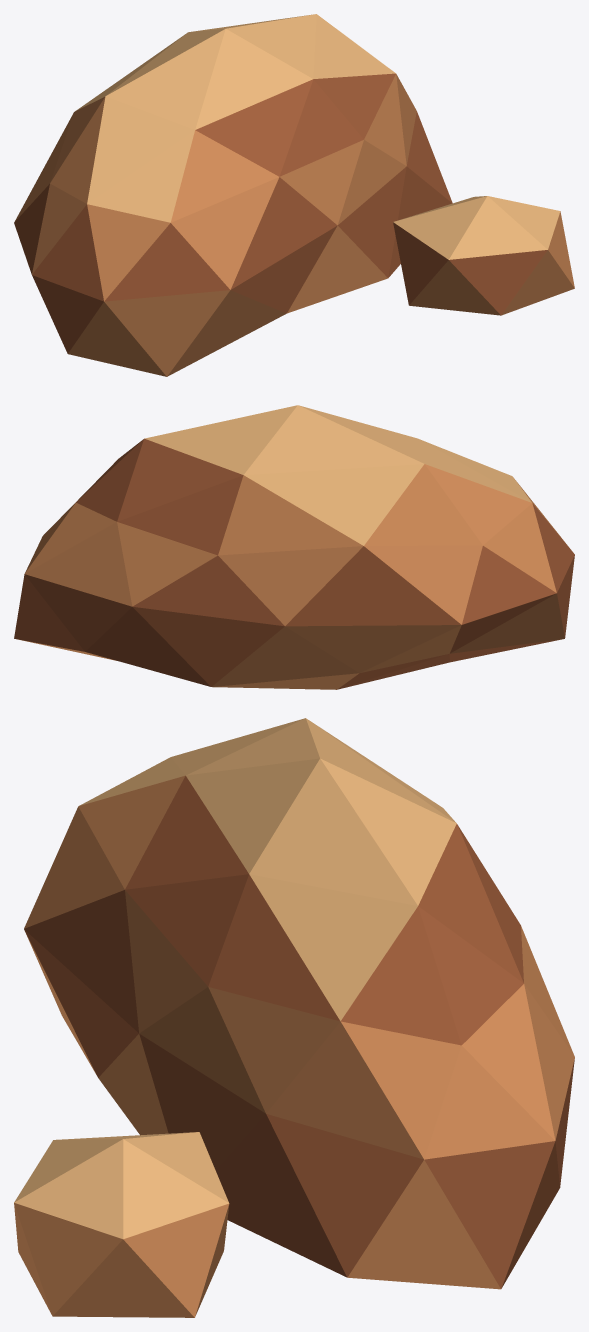
Rendered from boulder_b.glb.
3 renders of one model, top to bottom at view 1: azimuth 30°, elevation 25°; view 2: azimuth 150°, elevation 25°; view 3: azimuth 270°, elevation 25°, orthographic. The views are drawn at different scales.
Visible parts, largest first — view 1: boulder_b; view 2: boulder_b; view 3: boulder_b.
Part boxes in pixels (x1,y1,x2,y2): boulder_b: (14,14,574,376); boulder_b: (14,405,574,689); boulder_b: (14,718,574,1317).
Bounding box in the file's own units: 1.92 × 0.9534 × 1.28.
